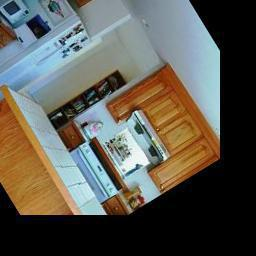Electrodomestico: (0, 15, 91, 109)
